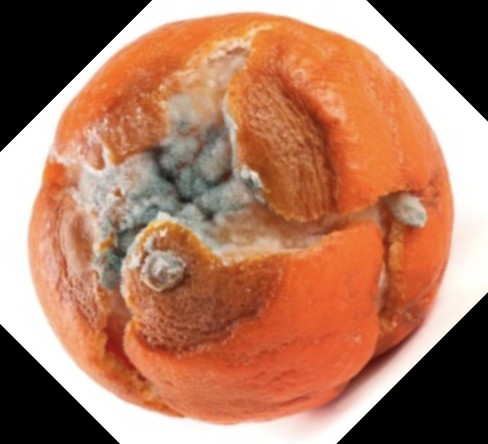rotten_orange: (29, 12, 455, 427)
